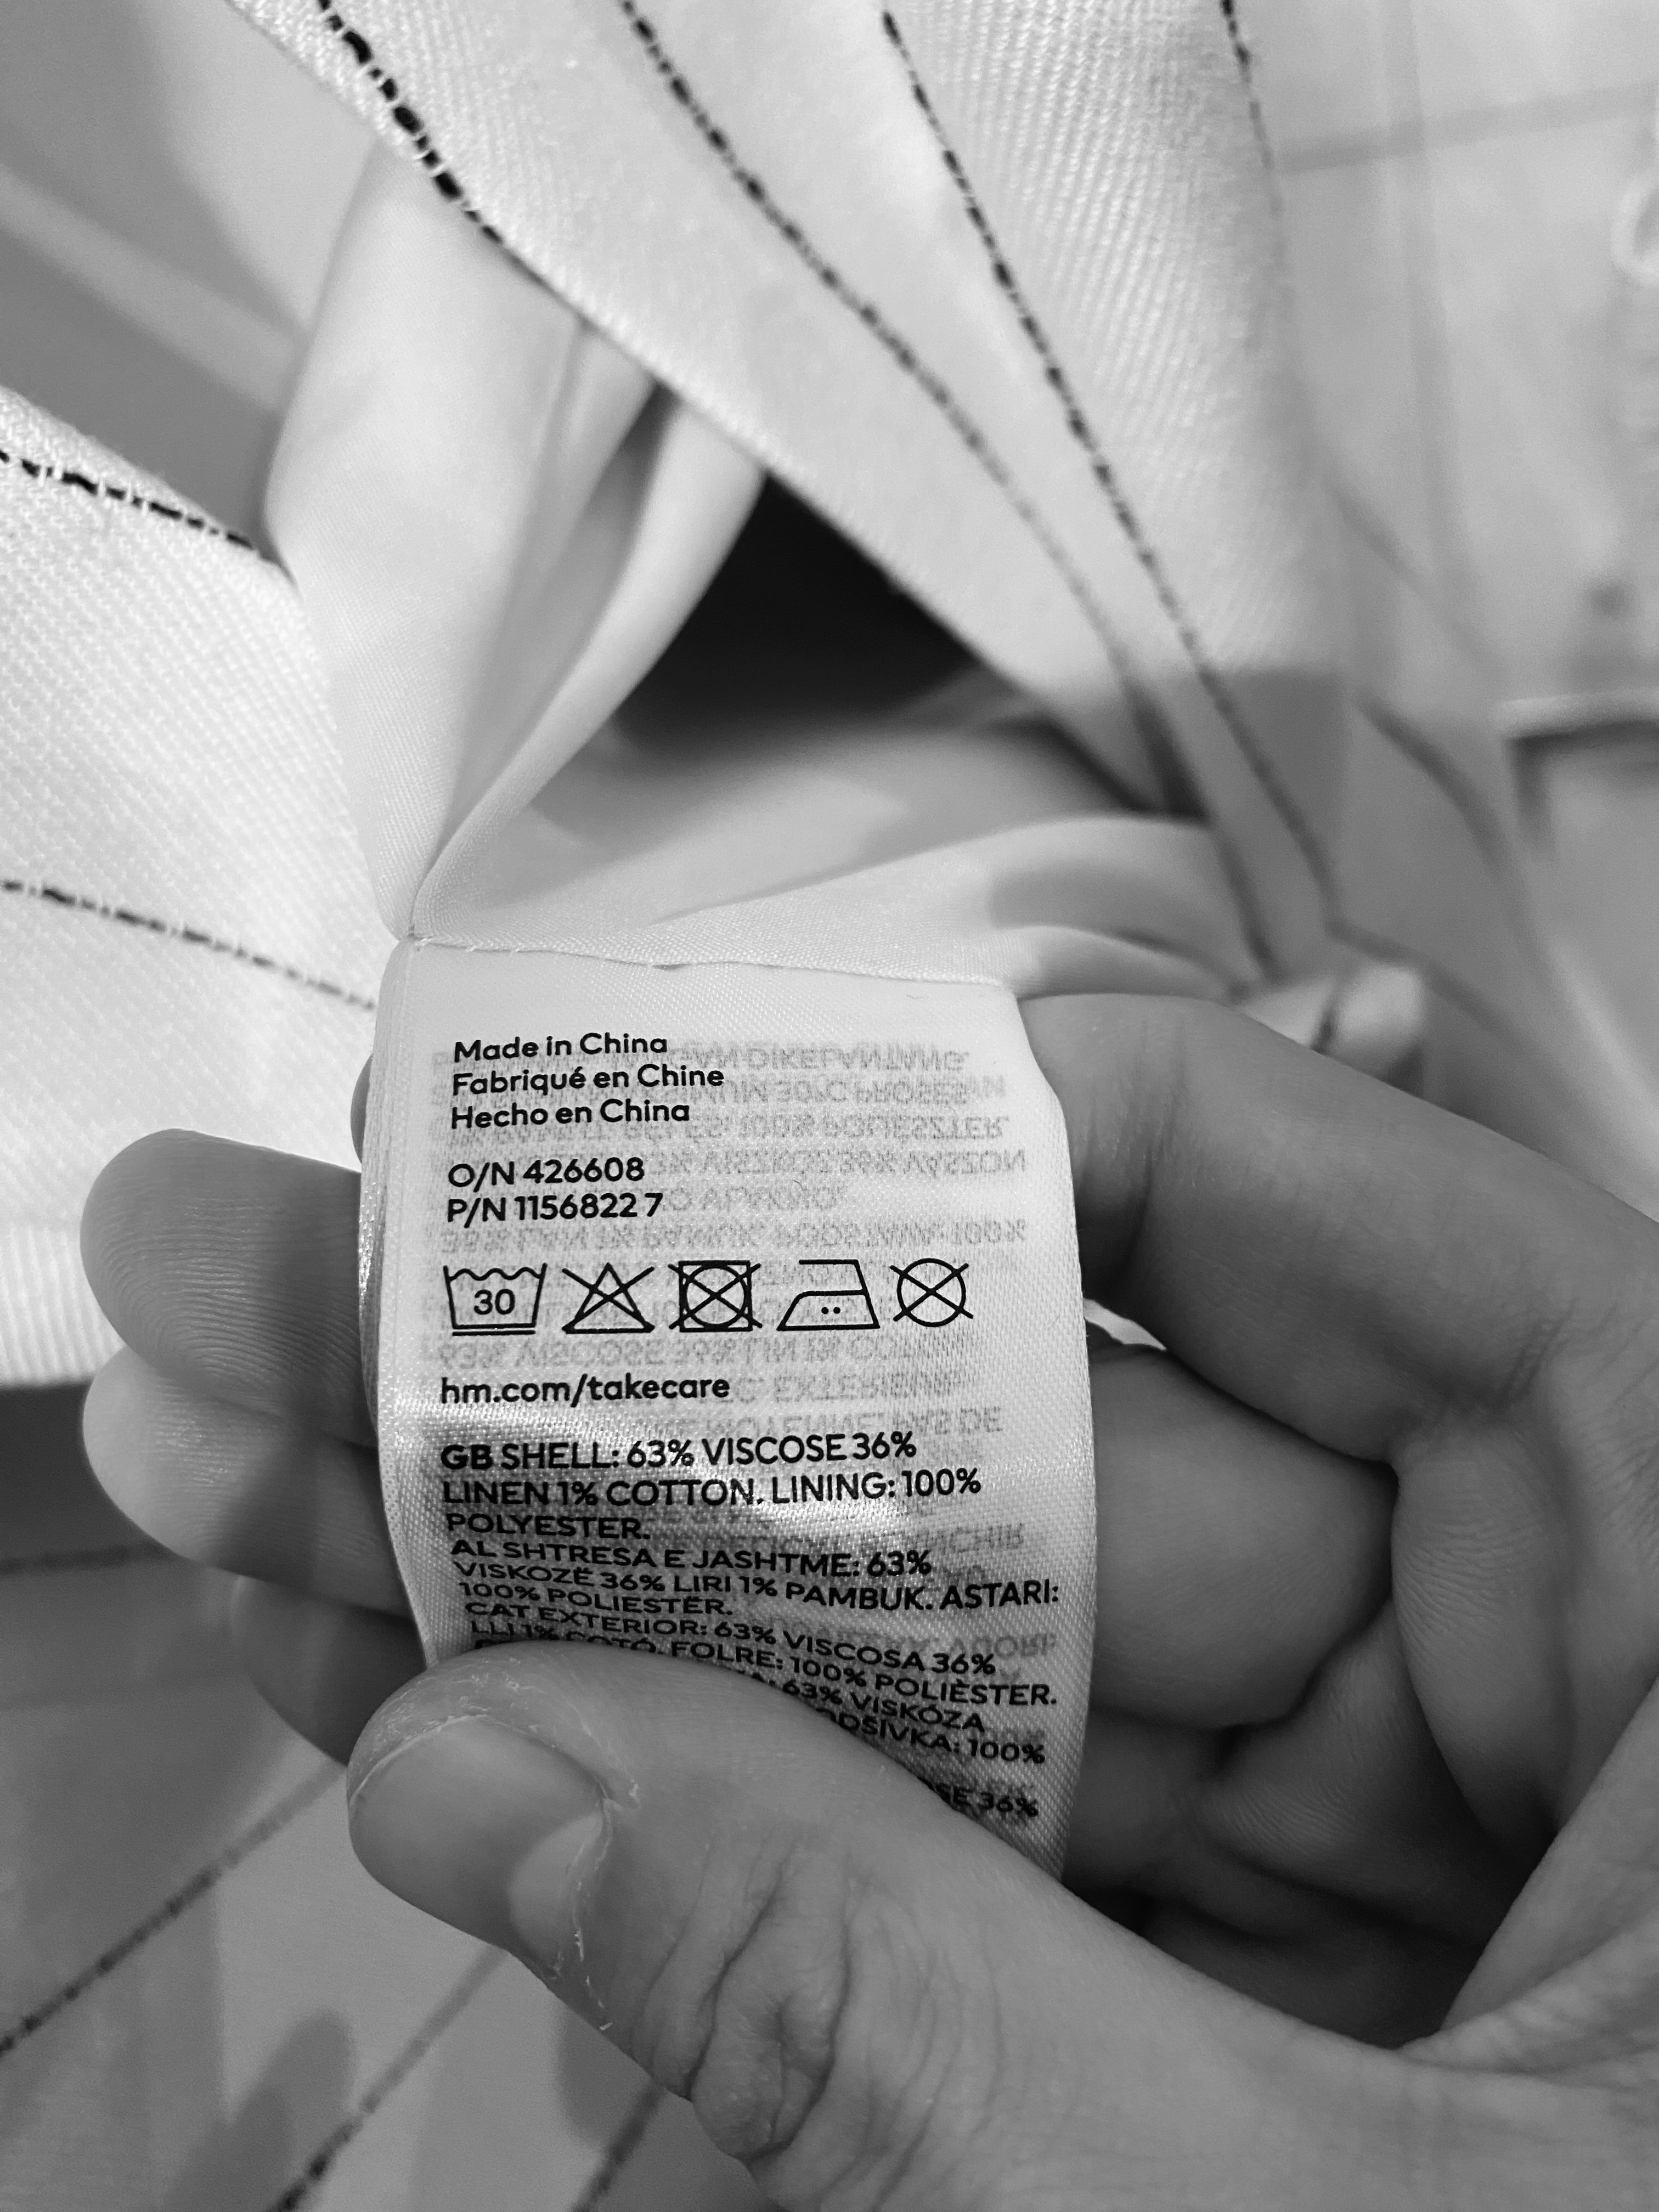icon: (655, 1256, 769, 1338), (439, 1259, 552, 1339), (775, 1252, 884, 1336), (558, 1263, 659, 1339), (894, 1254, 976, 1329)
